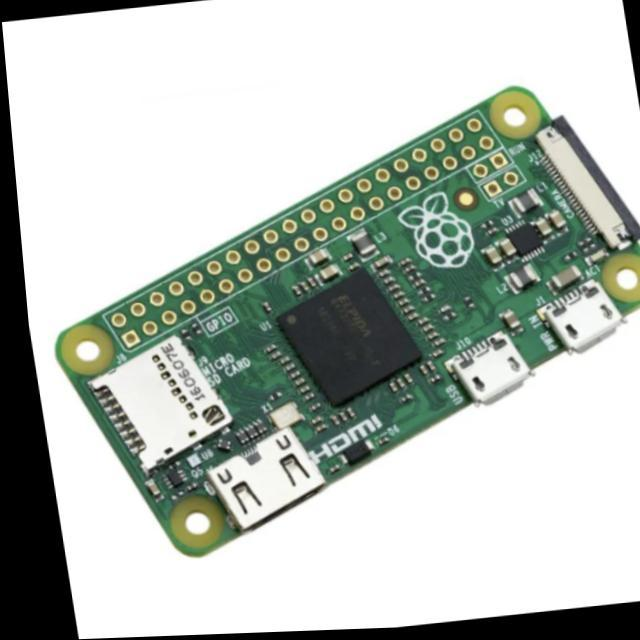Raspberry-Pi-Zero: (56, 87, 640, 554)
